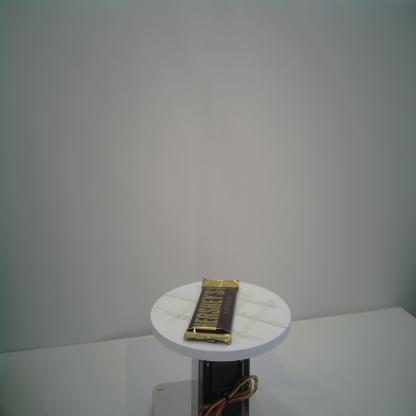Chocolate: (183, 277, 239, 346)
